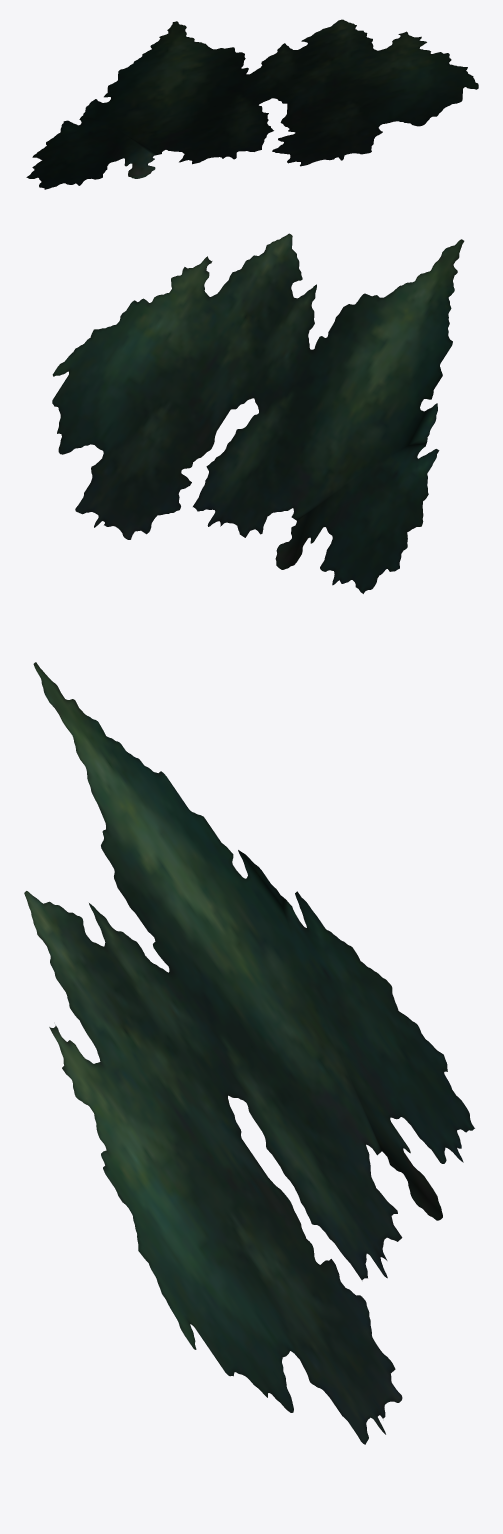
Rendered from MapObject_8.FBX.
The picture shows the model from 3 angles, top to bottom: view 1: azimuth 30°, elevation 25°; view 2: azimuth 150°, elevation 25°; view 3: azimuth 270°, elevation 25°; orthographic projection. The views are drawn at different scales.
Parts seen in each view (by area): view 1: polySurfaceMapGeoMesh180; view 2: polySurfaceMapGeoMesh180; view 3: polySurfaceMapGeoMesh180.
Boxes of the visible parts, x1=… form: polySurfaceMapGeoMesh180: x1=26, y1=19, x2=478, y2=189; polySurfaceMapGeoMesh180: x1=52, y1=233, x2=464, y2=593; polySurfaceMapGeoMesh180: x1=24, y1=662, x2=474, y2=1444.
Size of the model in its own units: 978 by 647 by 500.
